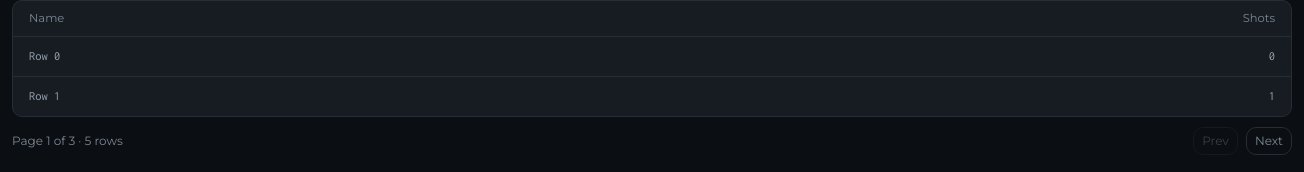
Test: DataTable › paginates rows client-side according to pageSize
expect the text "Row 0" is shown: met, box [29,49,60,62]
expect the text "Row 2" is not shown: met
Click the button "Next": click(1269, 141) [1246,127,1292,155]
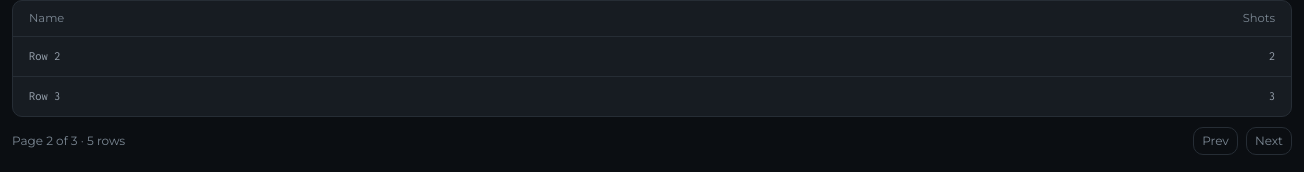
expect the text "Row 2" is shown: met, box [29,49,60,62]
expect the text "Row 0" is gone: met
